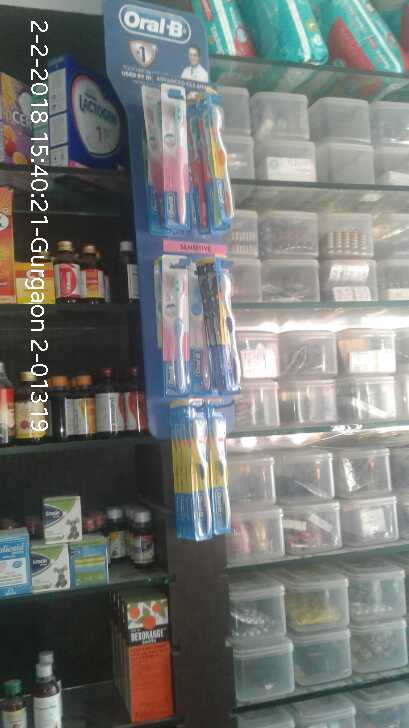oralb: (199, 84, 250, 229), (200, 270, 248, 388), (157, 87, 195, 228), (156, 268, 192, 397), (204, 421, 238, 538), (185, 400, 207, 539)
